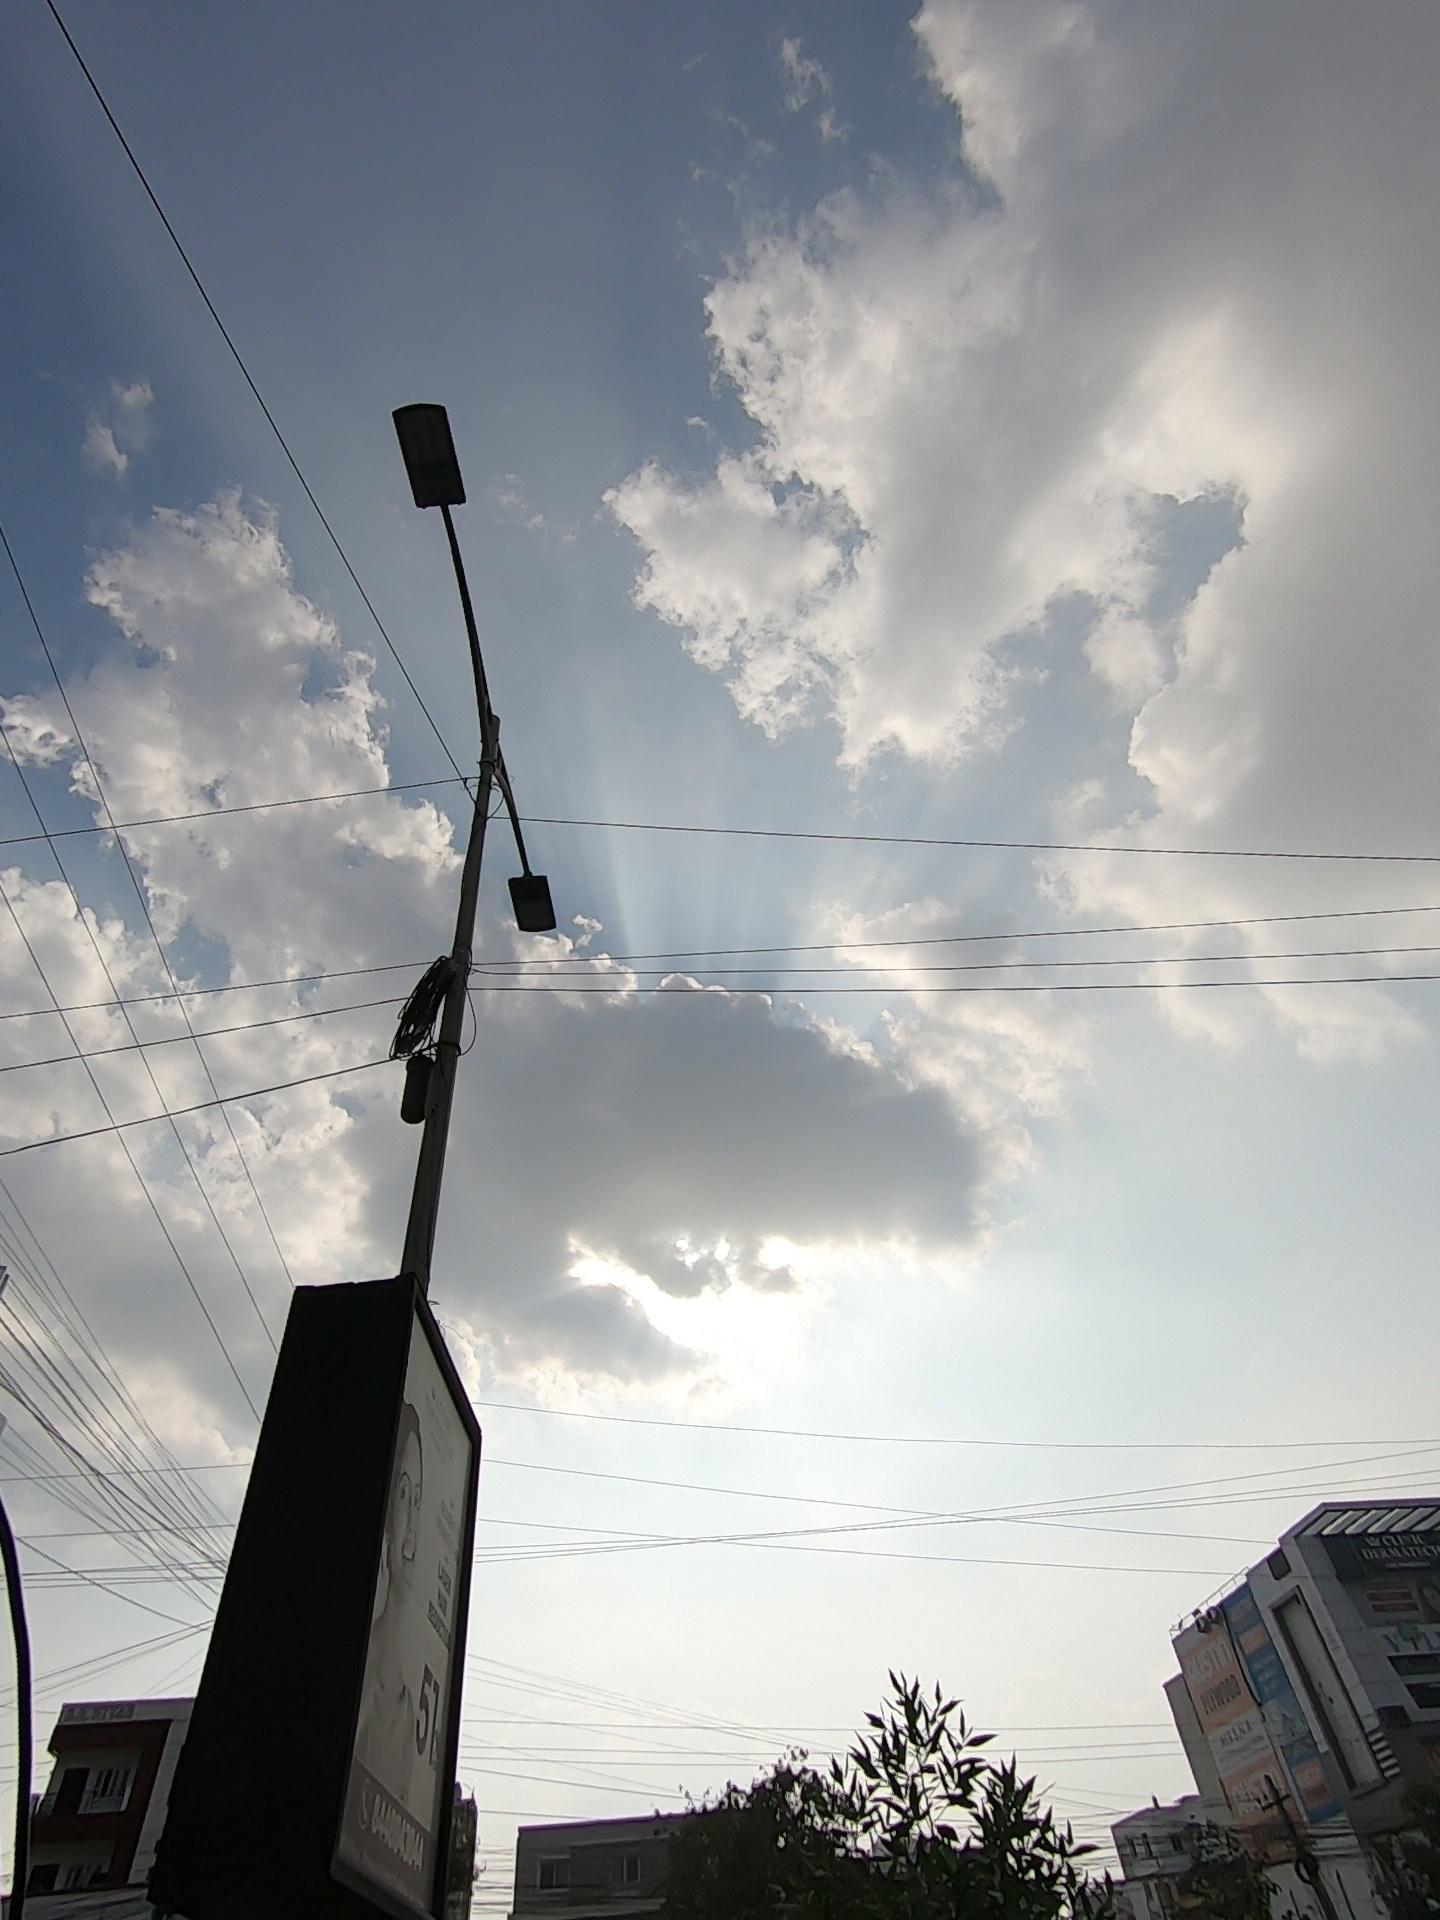off: (160, 316, 796, 1067)
